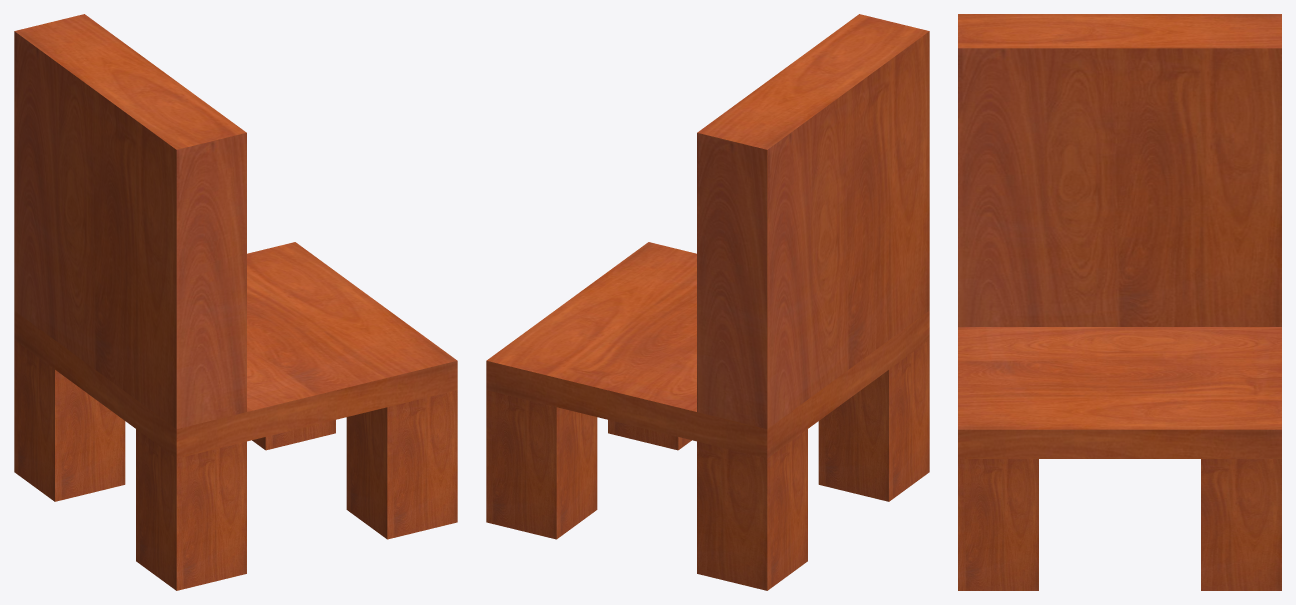
Rendered from Silla.fbx.
The picture shows the model from 3 angles, left to right: view 1: azimuth 30°, elevation 25°; view 2: azimuth 150°, elevation 25°; view 3: azimuth 270°, elevation 25°; orthographic projection.
Visible parts, largest first — view 1: Cube.003; view 2: Cube.003; view 3: Cube.003.
Part boxes in pixels (bbox=[...]): Cube.003: bbox=[14, 14, 457, 590]; Cube.003: bbox=[486, 14, 929, 590]; Cube.003: bbox=[958, 14, 1281, 590].
Size of the model in its own units: 62.5 by 93.75 by 62.5.
1 material, 1 textured.
